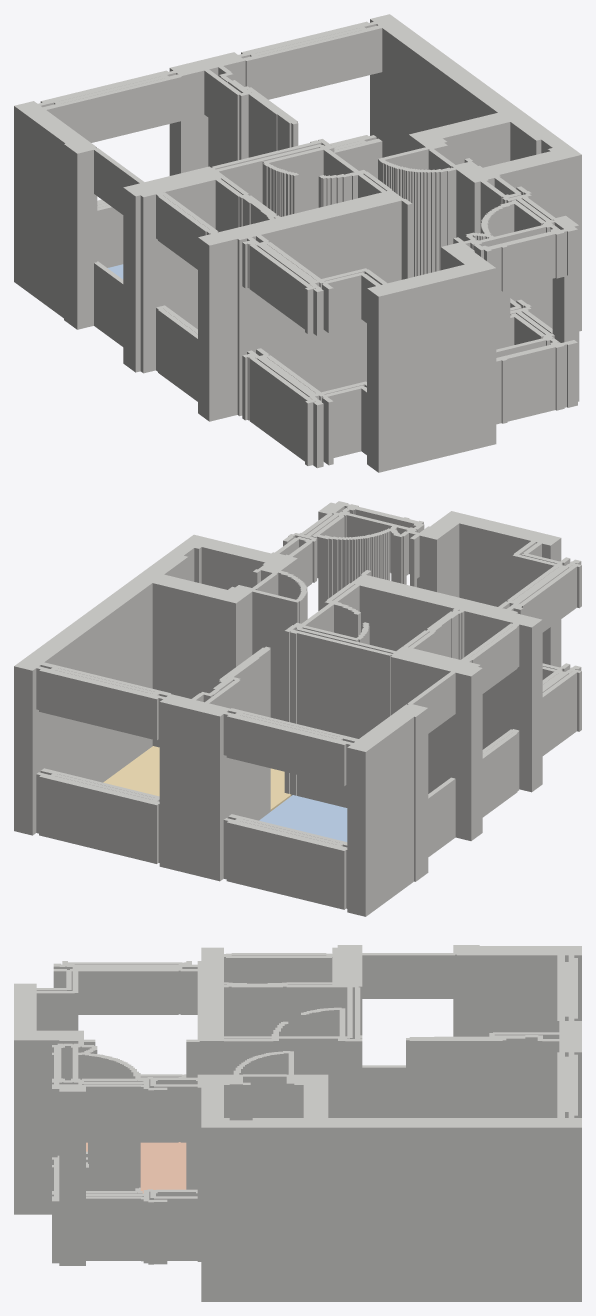
3 renders of one model, top to bottom at view 1: azimuth 30°, elevation 25°; view 2: azimuth 150°, elevation 25°; view 3: azimuth 270°, elevation 25°, orthographic. The views are drawn at different scales.
Visible parts, largest first — view 1: walls; view 2: walls, room:bedroom:0, room:living:1; view 3: walls, room:kitchen:5.
Part boxes in pixels (x1,y1,x2,y2): walls: [14, 14, 581, 472]; walls: [14, 501, 581, 916]; room:bedroom:0: [259, 795, 347, 841]; room:living:1: [103, 746, 291, 811]; walls: [14, 945, 581, 1301]; room:kitchen:5: [86, 1142, 186, 1193].
Size of the model in its own units: 6.28 by 2.8 by 8.27.
